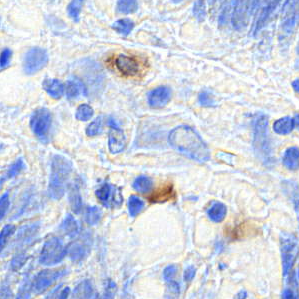Lymphocyte: (111, 50, 143, 79)
